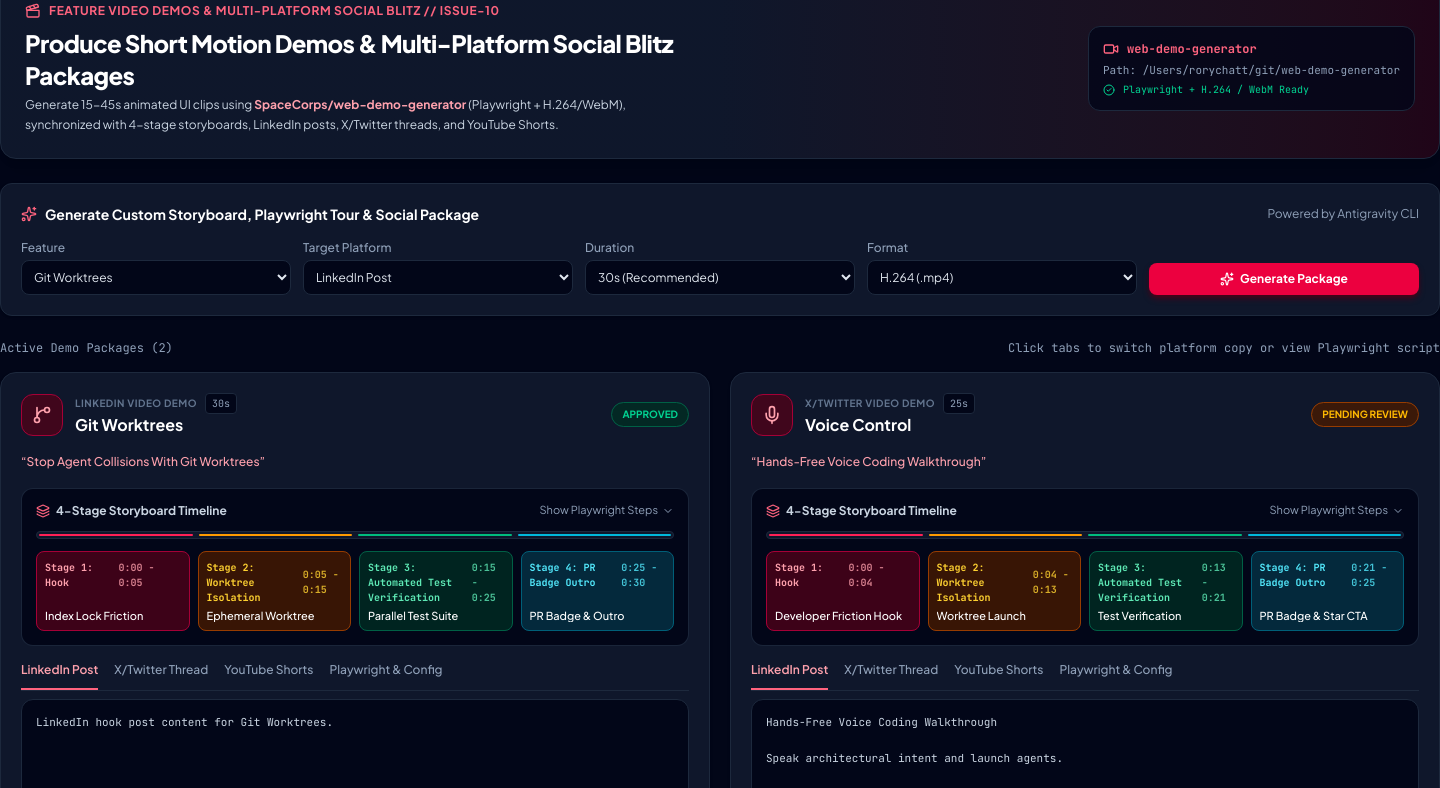
it: VideoDemos View › expands and collapses scene Playwright steps
This screenshot has width=1440, height=788.
Click the button "Show Playwright Steps" below "Approved": (607, 511) left=540, top=503, right=674, bottom=518
(page scrolled)
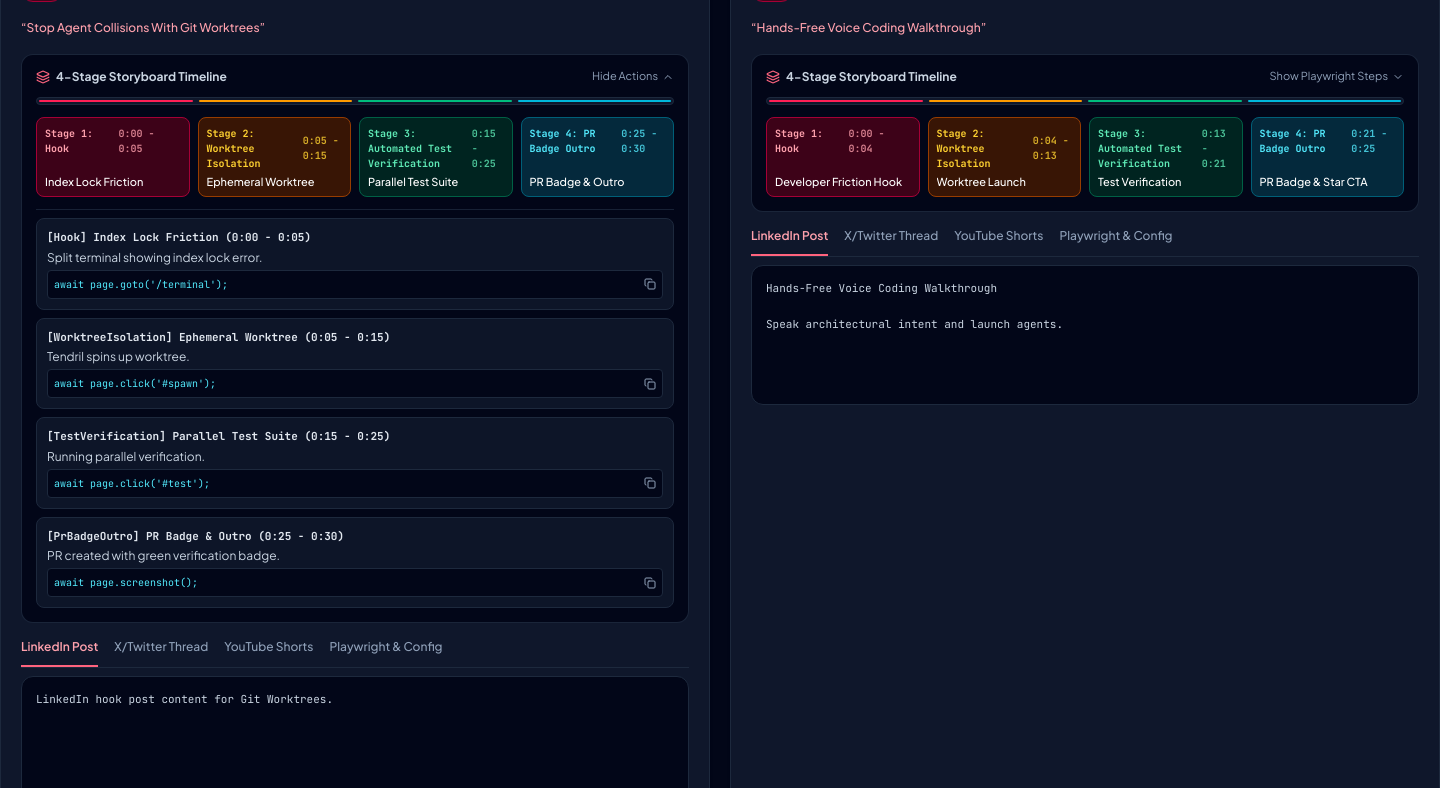
Now the text "Hide Actions" is shown, box left=592, top=69, right=658, bottom=84
Now the text "await page.goto('/terminal');" is shown, box left=54, top=277, right=228, bottom=292
Now the text "await page.click('#spawn');" is shown, box left=54, top=376, right=216, bottom=391
